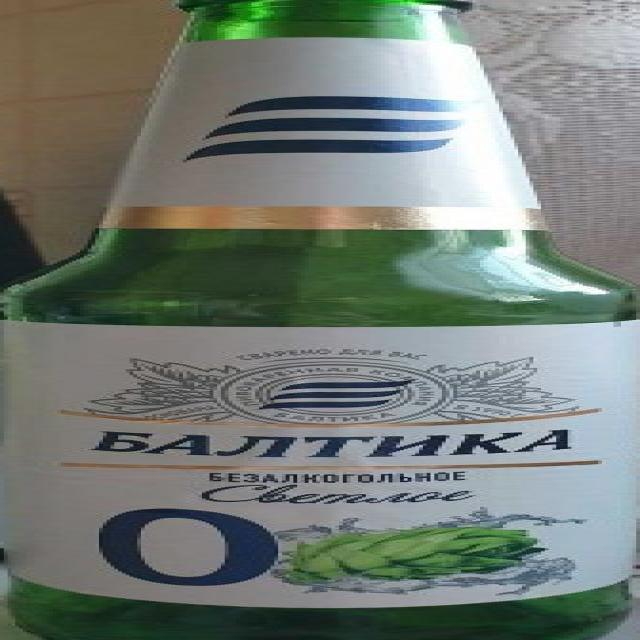Baltika -0: (4, 0, 640, 640)
